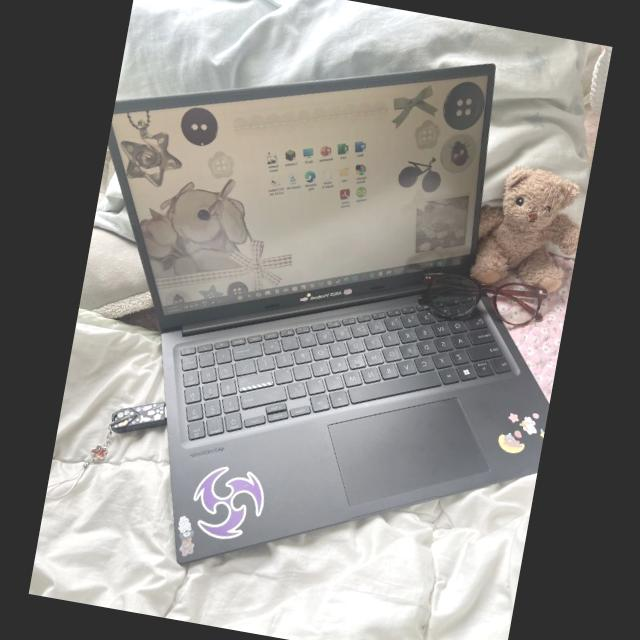laptop: (108, 63, 548, 562)
